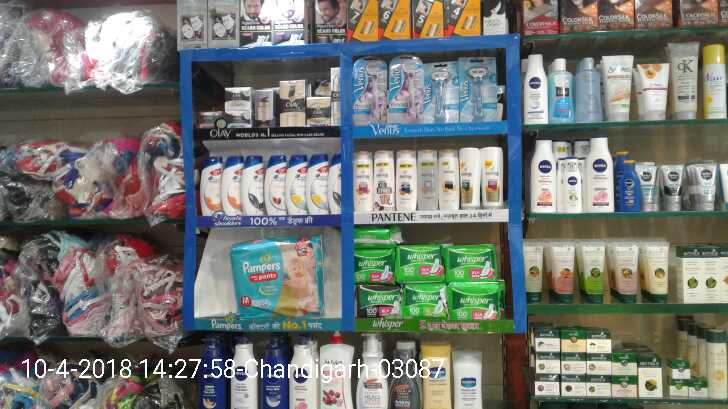venus: (459, 55, 497, 123), (351, 55, 387, 125), (390, 54, 424, 125), (426, 59, 457, 123)
